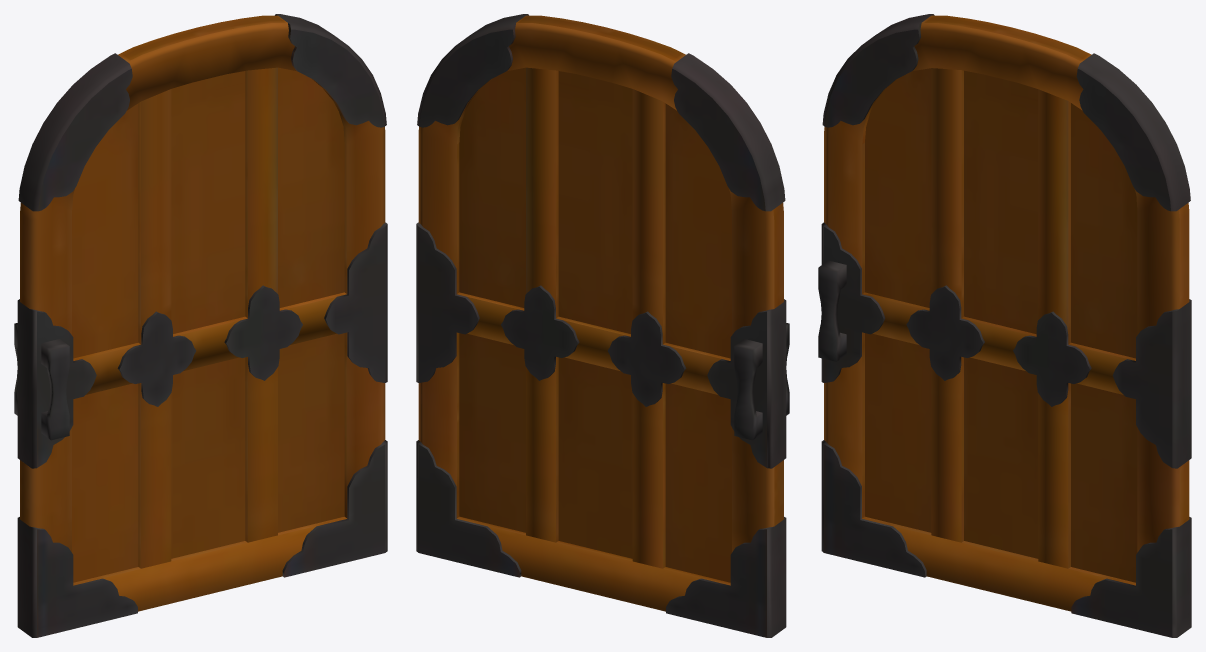
Rendered from door-japanese-r.glb.
3 views of the same model, side by side, from view 1: azimuth 30°, elevation 25°; view 2: azimuth 150°, elevation 25°; view 3: azimuth 330°, elevation 25° (orthographic).
Size of the model in its own units: 12 by 18 by 2.16.
Materials: 1 (1 with a texture image).
